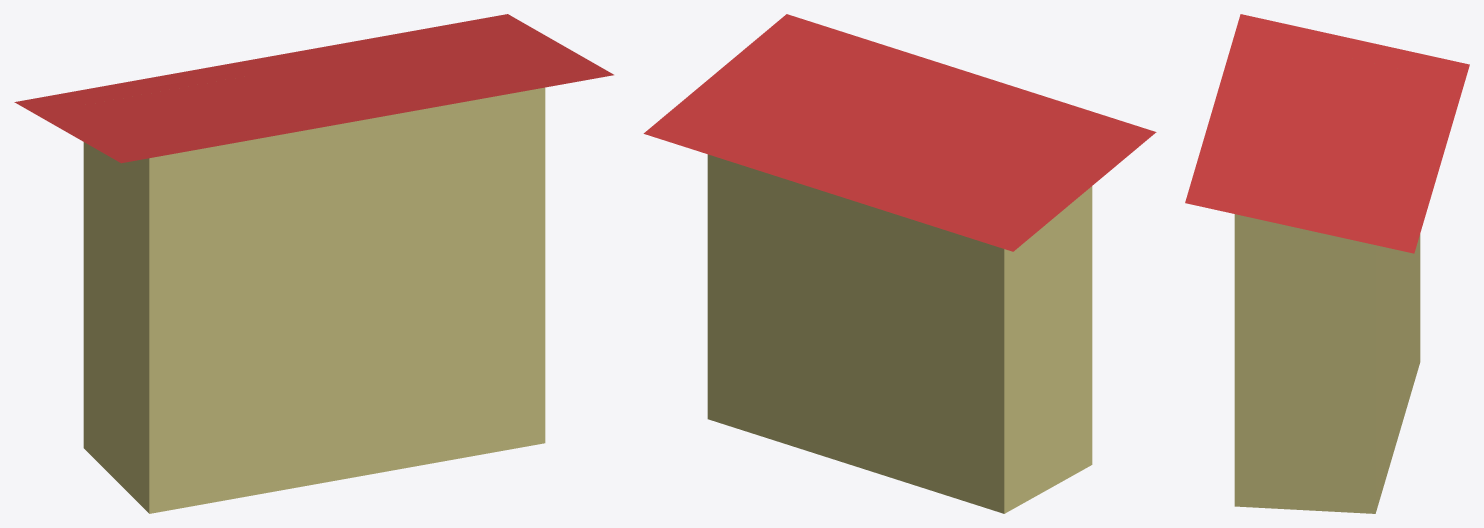
The picture shows the model from 3 angles, left to right: view 1: azimuth 30°, elevation 25°; view 2: azimuth 150°, elevation 25°; view 3: azimuth 270°, elevation 25°; orthographic projection. The views are drawn at different scales.
Size of the model in its own units: 8.01 by 4.8 by 5.94.
